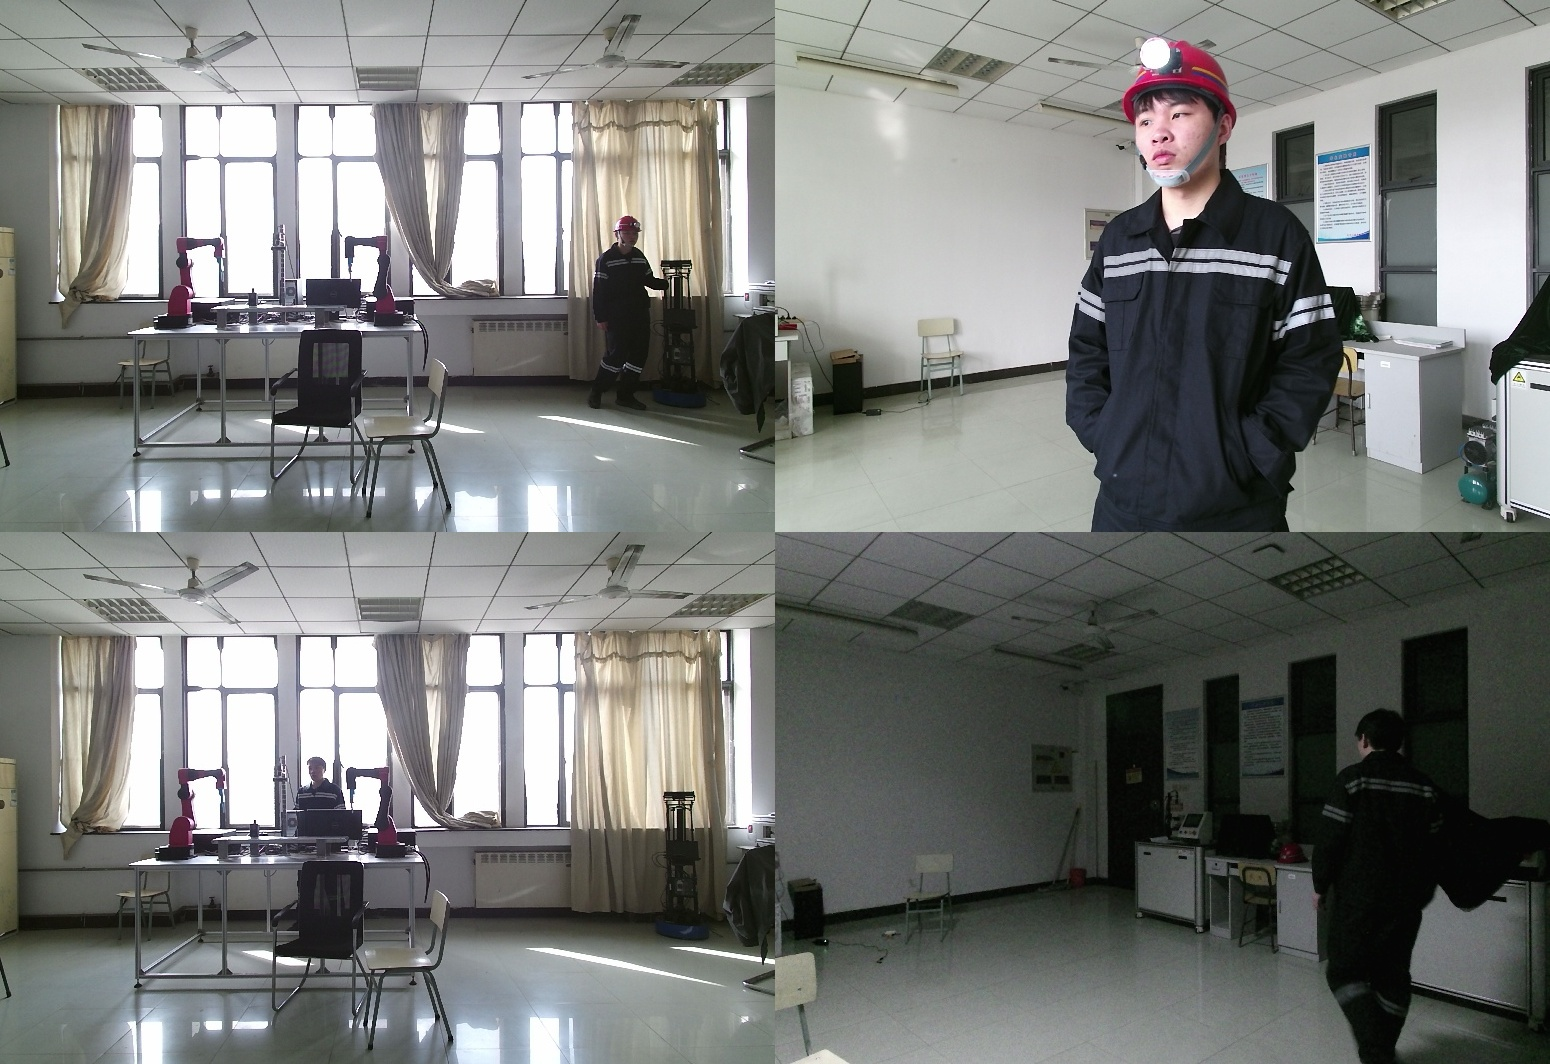person: (1076, 51, 1377, 532), (1290, 720, 1441, 1064), (590, 217, 666, 417), (288, 759, 358, 839)
